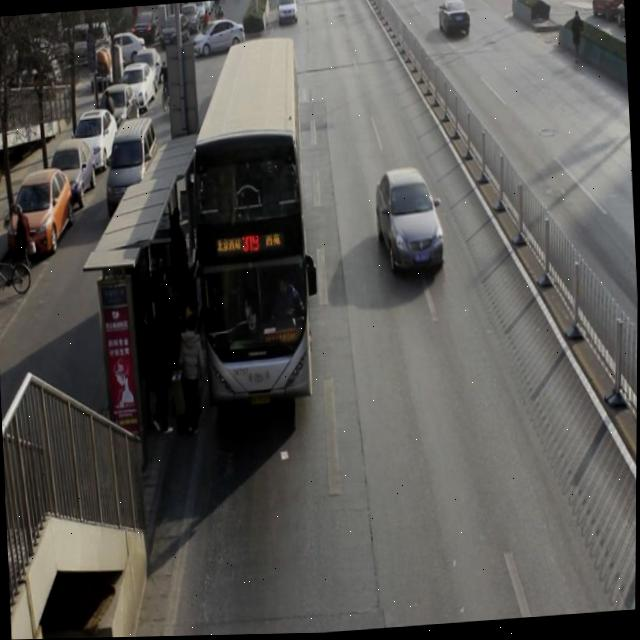car: (376, 169, 447, 279), (436, 0, 473, 41), (276, 0, 298, 26)
van: (186, 36, 317, 409)
